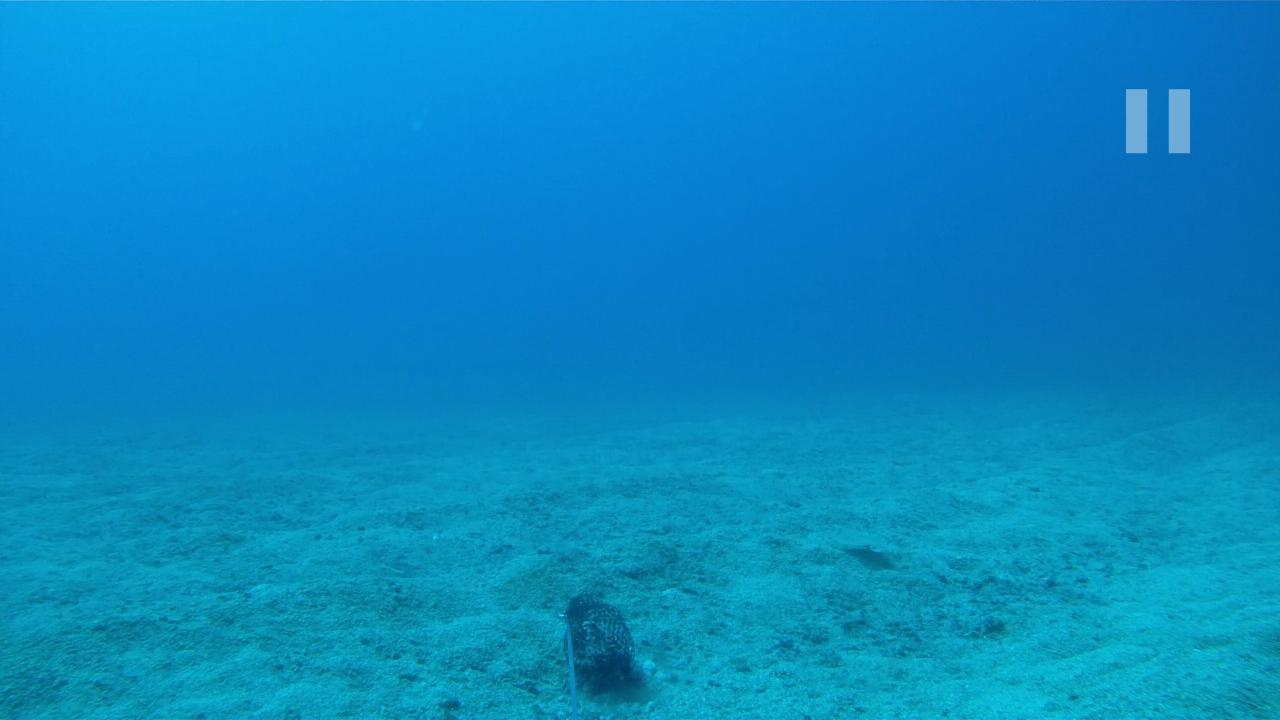bothus: (828, 537, 887, 554)
